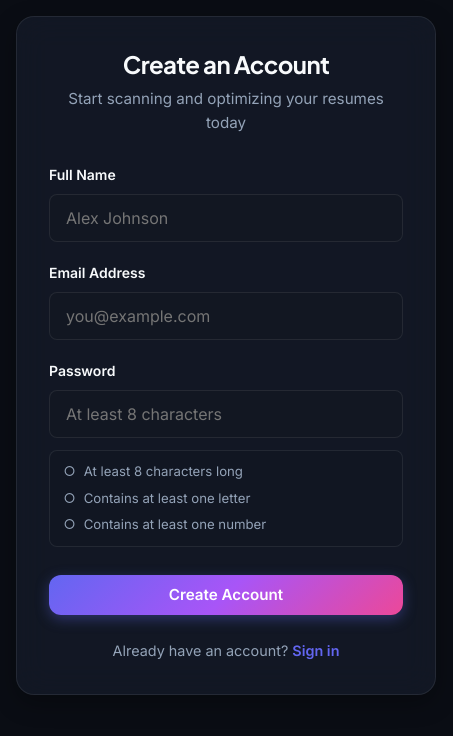
Test: Client Authentication Flow › Register Page › validates weak password client-side
Type "Jane Doe" into the field labelled "Full Name".
click(226, 218); type("Jane Doe")  # box [49,194,403,242]
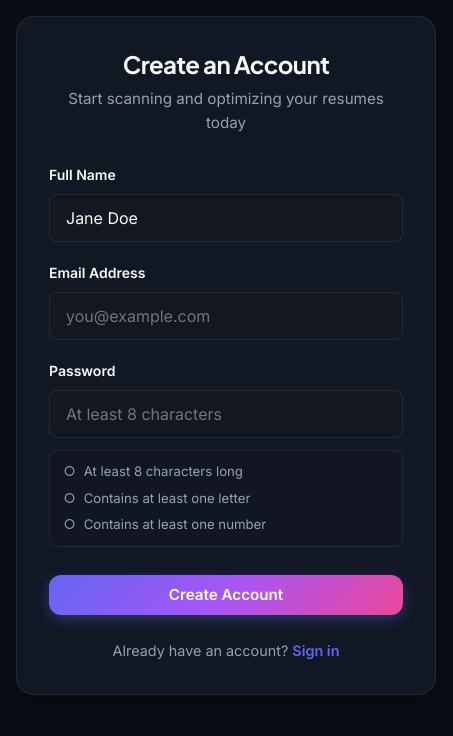
Type "jane@example.com" into the field labelled "Email Address".
click(226, 316); type("jane@example.com")  # box [49,292,403,340]
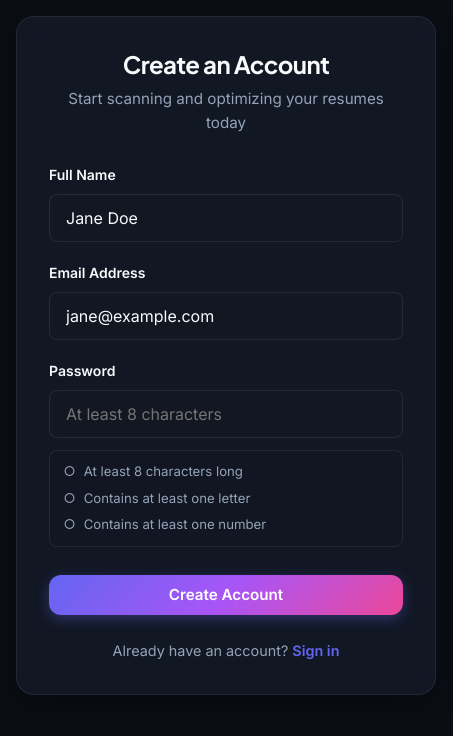
Type "short" into the password field labelled "Password".
click(226, 414); type("short")  # box [49,390,403,438]
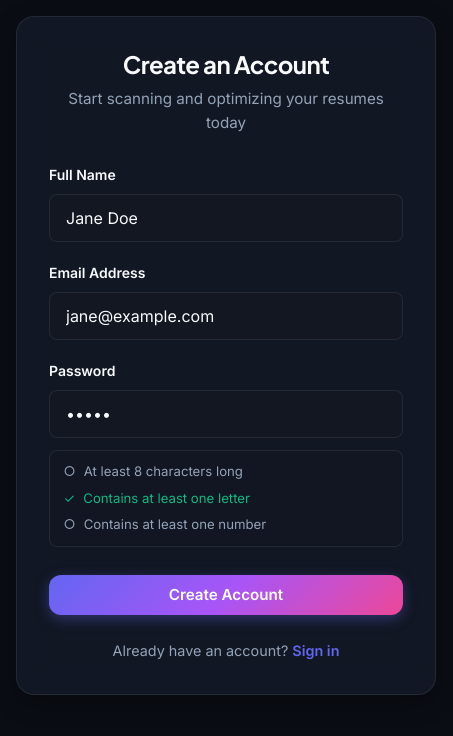
Click the button "Create Account".
click(226, 595)  # box [49,575,403,615]
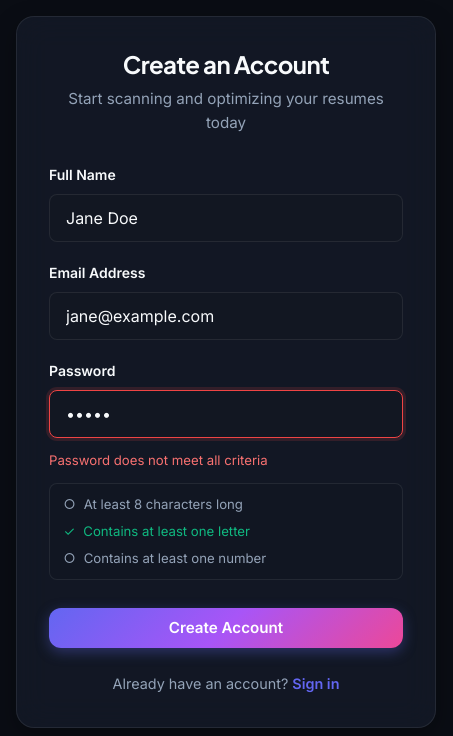
Expected: the text "Password does not meet all criteria" is shown, [49,452,268,468]
